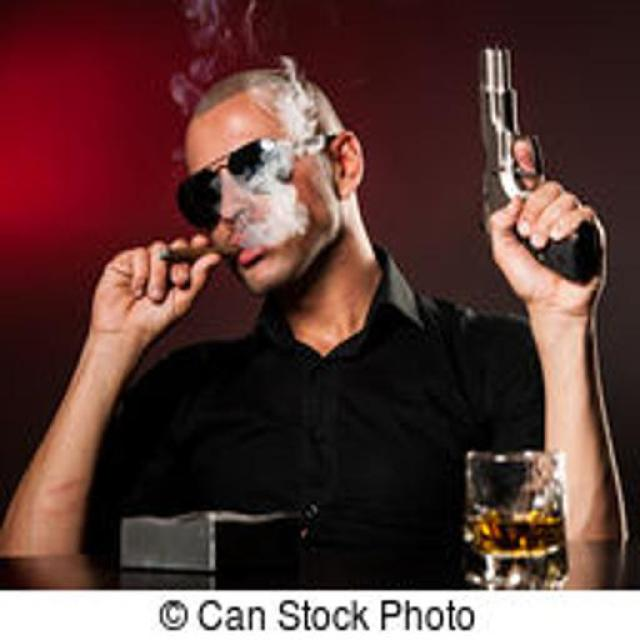pistol: (474, 42, 600, 282)
